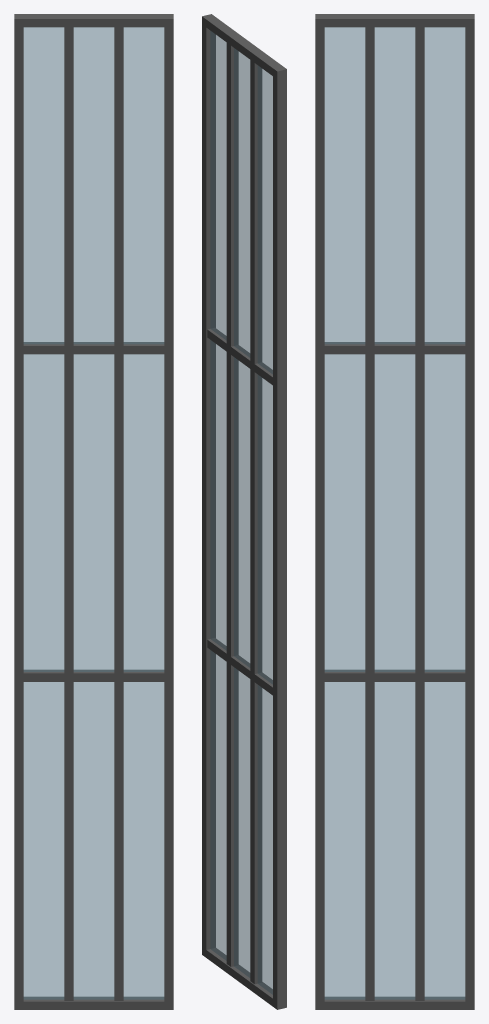
The model's file is Window Muntins.glb.
The picture shows the model from 3 angles, left to right: view 1: azimuth 90°, elevation 25°; view 2: azimuth 210°, elevation 25°; view 3: azimuth 270°, elevation 25°; orthographic projection. The views are drawn at different scales.
Visible parts, largest first — view 1: window (×9), divider (×8), rightFrame, leftFrame, top, bottom; view 2: window (×9), divider (×8), leftFrame, rightFrame, top, bottom; view 3: window (×9), divider (×8), rightFrame, leftFrame, top, bottom.
Boxes of the visible parts, x1,y1,x2,y2 form: window (×9): (23,27,164,999); divider (×8): (23,27,164,1000); rightFrame: (164,14,173,1009); leftFrame: (14,14,23,1009); top: (23,14,164,27); bottom: (23,996,164,1009); window (×9): (210,31,272,994); divider (×8): (207,43,272,984); leftFrame: (273,66,286,1009); rightFrame: (202,14,215,957); top: (206,17,281,75); bottom: (206,948,272,1006); window (×9): (324,27,465,999); divider (×8): (324,27,465,1000); rightFrame: (315,14,324,1009); leftFrame: (465,14,474,1009); top: (324,14,465,27); bottom: (324,996,465,1009).
Bounding box in the file's own units: 0.025 × 2.34 × 0.34.
